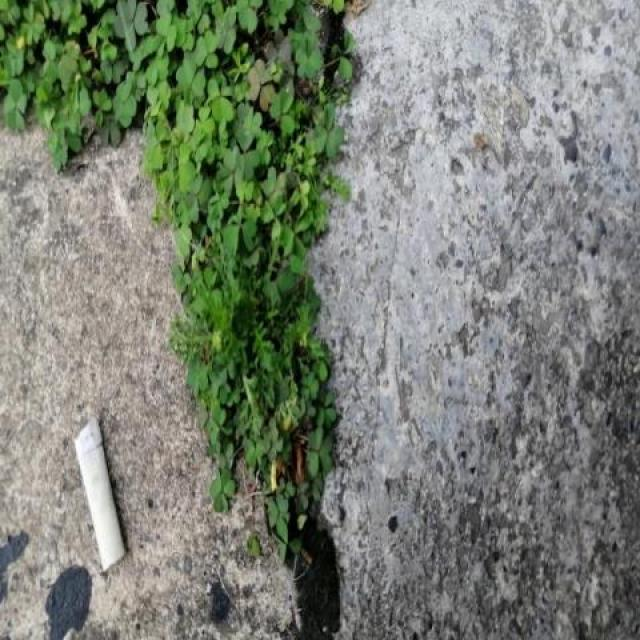non-organic waste: (67, 410, 133, 578)
